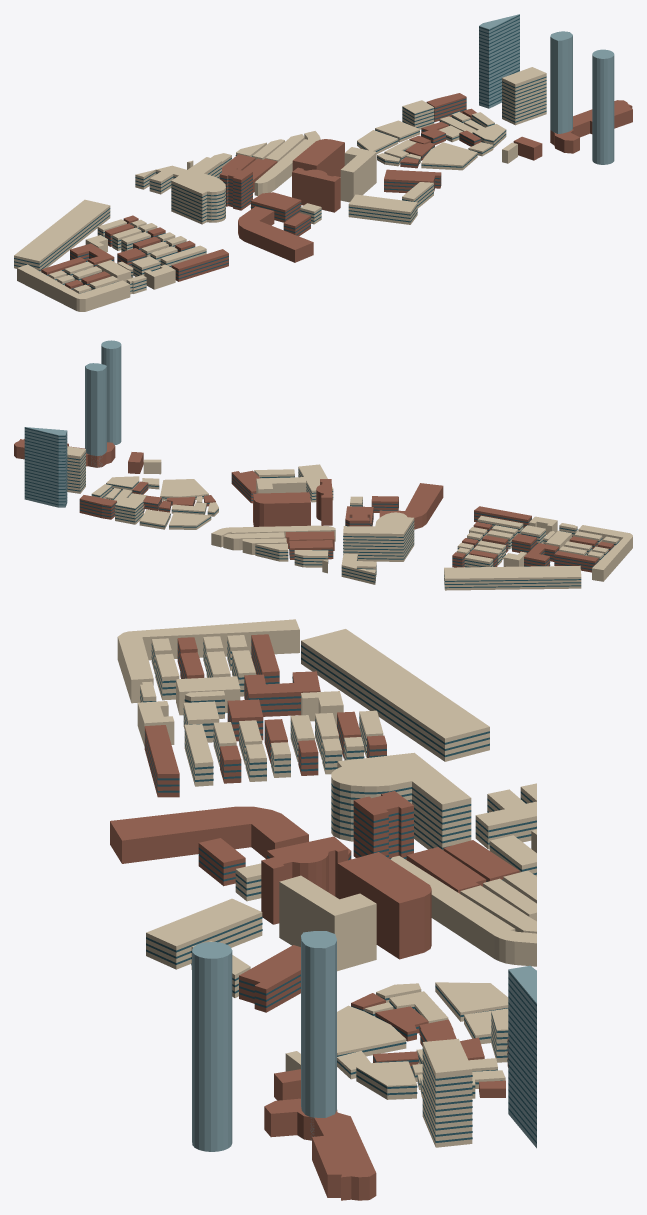
The picture shows the model from 3 angles, top to bottom: view 1: azimuth 30°, elevation 25°; view 2: azimuth 150°, elevation 25°; view 3: azimuth 270°, elevation 25°; orthographic projection. The views are drawn at different scales.
Visible parts, largest first — view 1: osm-way-612173025, osm-way-744535442, osm-way-1377218201, osm-way-610991910, osm-way-1376922978, osm-way-610992775, osm-way-744535441, osm-way-612173021, osm-way-1330877679, osm-way-1370922136, osm-way-1370922139, osm-way-556936035 (+20 smaller); view 2: osm-way-612173025, osm-way-744535442, osm-way-1377218201, osm-way-610992775, osm-way-1323409557, osm-way-610991910, osm-way-744535441, osm-way-1376922978, osm-way-1377249998, osm-way-612173021, osm-way-1330877680, osm-way-1370922136 (+21 smaller); view 3: osm-way-744535442, osm-way-610991910, osm-way-1377218201, osm-way-1376922978, osm-way-610992775, osm-way-1323409557, osm-way-556936035, osm-way-1370922136, osm-way-612173021, osm-way-744535441, osm-way-612173025, osm-way-1377249998 (+28 smaller).
Part boxes in pixels (x1,y1,x2,y2): osm-way-612173025: [479, 14, 519, 108]; osm-way-744535442: [14, 199, 110, 271]; osm-way-1377218201: [171, 157, 225, 224]; osm-way-610991910: [592, 49, 614, 164]; osm-way-1376922978: [238, 206, 313, 262]; osm-way-610992775: [550, 31, 572, 133]; osm-way-744535441: [17, 264, 130, 311]; osm-way-612173021: [502, 67, 546, 125]; osm-way-1330877679: [292, 167, 340, 212]; osm-way-1370922136: [340, 147, 376, 202]; osm-way-1370922139: [348, 194, 417, 224]; osm-way-556936035: [550, 100, 632, 153]; osm-way-612173025: [24, 427, 67, 507]; osm-way-744535442: [444, 565, 581, 590]; osm-way-1377218201: [343, 512, 414, 561]; osm-way-610992775: [85, 363, 106, 467]; osm-way-1323409557: [253, 492, 310, 526]; osm-way-610991910: [101, 340, 121, 444]; osm-way-744535441: [578, 525, 632, 581]; osm-way-1376922978: [379, 483, 443, 529]; osm-way-1377249998: [211, 525, 335, 547]; osm-way-612173021: [67, 446, 85, 493]; osm-way-1330877680: [341, 553, 376, 584]; osm-way-1370922136: [256, 477, 306, 493]; osm-way-744535442: [301, 629, 489, 761]; osm-way-610991910: [192, 942, 232, 1151]; osm-way-1377218201: [331, 752, 471, 849]; osm-way-1376922978: [110, 806, 308, 863]; osm-way-610992775: [301, 931, 336, 1139]; osm-way-1323409557: [337, 852, 431, 959]; osm-way-556936035: [264, 1098, 376, 1200]; osm-way-1370922136: [279, 875, 376, 971]; osm-way-612173021: [422, 1038, 472, 1147]; osm-way-744535441: [117, 619, 299, 703]; osm-way-612173025: [508, 965, 536, 1148]; osm-way-1377249998: [390, 855, 536, 966].
Size of the model in its own units: 768 by 124 by 249.
